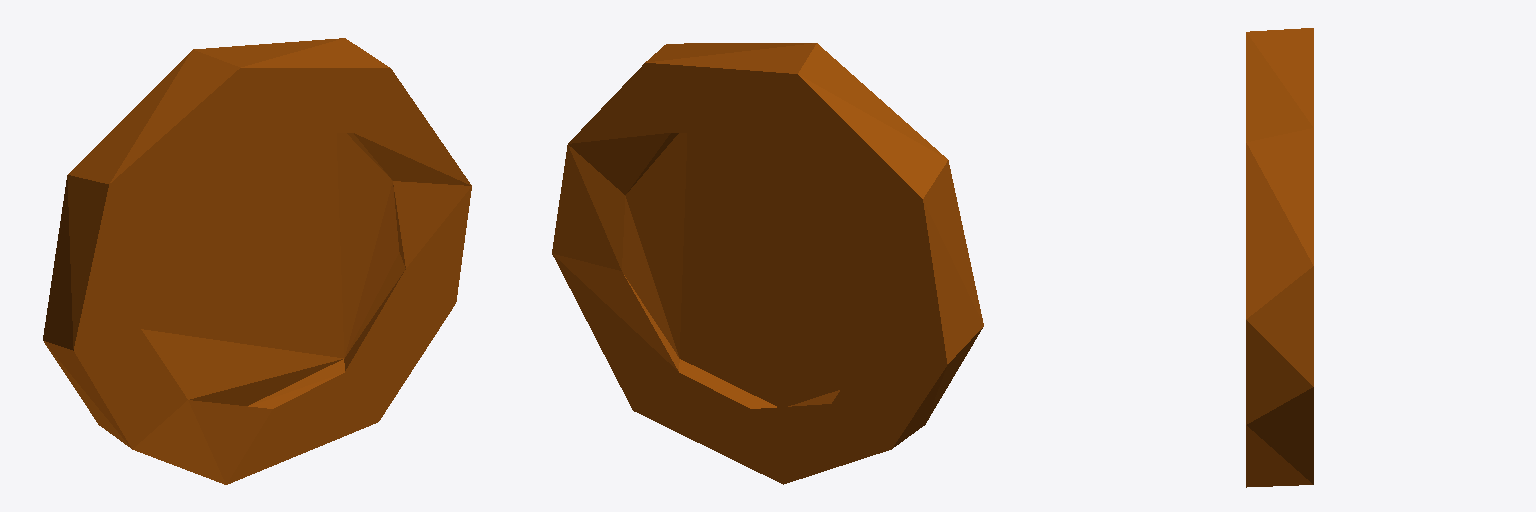
The model's file is Coin.obj.
3 renders of one model, left to right at view 1: azimuth 30°, elevation 25°; view 2: azimuth 150°, elevation 25°; view 3: azimuth 270°, elevation 25°, orthographic.
Visible parts, largest first — view 1: coin; view 2: coin; view 3: coin.
Part boxes in pixels (bbox=[...]): coin: bbox=[43, 38, 471, 484]; coin: bbox=[552, 43, 983, 484]; coin: bbox=[1246, 28, 1313, 487].
Bounding box in the file's own units: 0.4951 × 0.4951 × 0.0724.